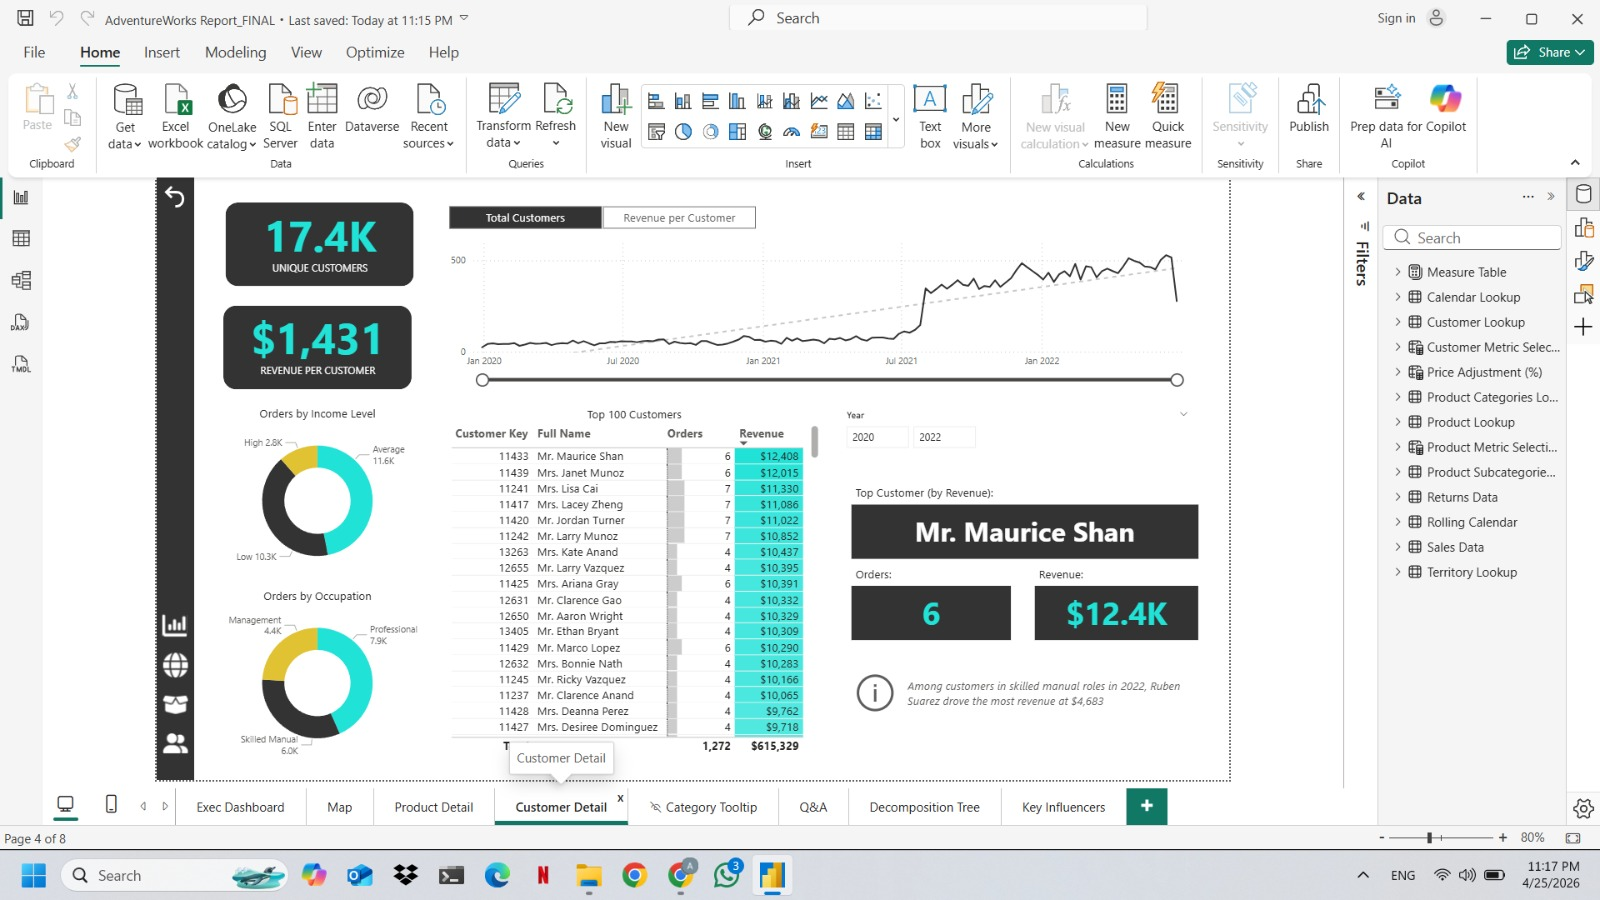

This screenshot's page, from the dashboard's own definition file:
{"tool":"powerbi","page":{"name":"Customer Detail","canvas":[1280,720],"ordinal":3},"visuals":[{"type":"shape","box":[0,0,45,720],"z":0},{"type":"actionButton","box":[2.5,516.7,45.6,37.8],"z":0,"group":"g1"},{"type":"shape","box":[81.7,30,225,100],"z":1000},{"type":"actionButton","box":[3.3,563.4,45.6,37.8],"z":1000,"group":"g1"},{"type":"shape","box":[80,152.7,225,100],"z":2000},{"type":"actionButton","box":[3.3,611.1,45.6,37.8],"z":2000,"group":"g1"},{"type":"card","fields":{"Values":["Measure Table.Total Customers"]},"box":[66.7,0,256.2,150],"z":3000},{"type":"actionButton","box":[3.3,657.8,45.6,37.8],"z":3000,"group":"g1"},{"type":"card","fields":{"Values":["Measure Table.Average Revenue per Customer"]},"box":[65,122.7,256.2,150],"z":4000},{"type":"lineChart","fields":{"Y":["Measure Table.Total Customers"],"Category":["Calendar Lookup.Date Hierarchy.Year","Calendar Lookup.Date Hierarchy.Start of Month","Calendar Lookup.Date Hierarchy.Start of Week","Calendar Lookup.Date Hierarchy.Date"]},"box":[345.9,63.3,898.6,188.8],"z":5000},{"type":"donutChart","title":"Orders by Income Level","fields":{"Category":["Customer Lookup.Income Level"],"Y":["Measure Table.Total Orders"]},"box":[63.8,272.5,257.5,210],"z":6000},{"type":"donutChart","title":"Orders by Occupation","fields":{"Y":["Measure Table.Total Orders"],"Category":["Customer Lookup.Occupation"]},"box":[63.8,490,257.5,210],"z":7000},{"type":"tableEx","title":"Top 100 Customers","fields":{"Values":["Customer Lookup.CustomerKey","Customer Lookup.Full Name","Measure Table.Total Orders","Measure Table.Total Revenue"]},"box":[346,273.6,449.4,418.4],"z":8000},{"type":"card","fields":{"Values":["Min(Customer Lookup.Full Name)"]},"box":[829.6,390.1,414.5,65.1],"z":9000},{"type":"card","fields":{"Values":["Measure Table.Total Orders"]},"box":[829.6,487,190.7,65.1],"z":10000},{"type":"card","fields":{"Values":["Measure Table.Total Revenue"]},"box":[1048.7,487,195.4,65.1],"z":11000},{"type":"textbox","box":[829.6,361.7,190.7,37.9],"z":12000},{"type":"textbox","box":[829.6,458.4,190.7,37.9],"z":13000},{"type":"textbox","box":[1048.7,458.4,190.7,37.9],"z":14000},{"type":"slicer","fields":{"Values":["Calendar Lookup.Year"]},"box":[811.6,272.4,432.9,80.3],"z":15000},{"type":"actionButton","box":[830,586.7,410,56.7],"z":16000},{"type":"actionButton","box":[3.3,5.6,35.6,35.6],"z":17000},{"type":"group","id":"g1","title":"Navigation Buttons","box":[2.5,516.7,46.4,178.9],"z":18000},{"type":"slicer","fields":{"Values":["Customer Metric Selection.Customer Metric Selection"]},"box":[323.3,27.1,415.9,36.2],"z":19000}]}

Visuals, with their boxes on the page's 1280x720 design canvas (x1, y1, x2, y2). These are canvas units, not pixel positions in the 1600x900 screenshot, which may show the page scaled, cropped or inside an application window:
shape: box(0, 0, 45, 720)
actionButton: box(2, 517, 48, 554)
shape: box(82, 30, 307, 130)
actionButton: box(3, 563, 49, 601)
shape: box(80, 153, 305, 253)
actionButton: box(3, 611, 49, 649)
card - Measure Table.Total Customers: box(67, 0, 323, 150)
actionButton: box(3, 658, 49, 696)
card - Measure Table.Average Revenue per Customer: box(65, 123, 321, 273)
lineChart - Measure Table.Total Customers x Calendar Lookup.Date Hierarchy.Year: box(346, 63, 1244, 252)
"Orders by Income Level" donutChart: box(64, 272, 321, 482)
"Orders by Occupation" donutChart: box(64, 490, 321, 700)
"Top 100 Customers" tableEx: box(346, 274, 795, 692)
card - Min(Customer Lookup.Full Name): box(830, 390, 1244, 455)
card - Measure Table.Total Orders: box(830, 487, 1020, 552)
card - Measure Table.Total Revenue: box(1049, 487, 1244, 552)
textbox: box(830, 362, 1020, 400)
textbox: box(830, 458, 1020, 496)
textbox: box(1049, 458, 1239, 496)
slicer - Calendar Lookup.Year: box(812, 272, 1244, 353)
actionButton: box(830, 587, 1240, 643)
actionButton: box(3, 6, 39, 41)
"Navigation Buttons" group: box(2, 517, 49, 696)
slicer - Customer Metric Selection.Customer Metric Selection: box(323, 27, 739, 63)
